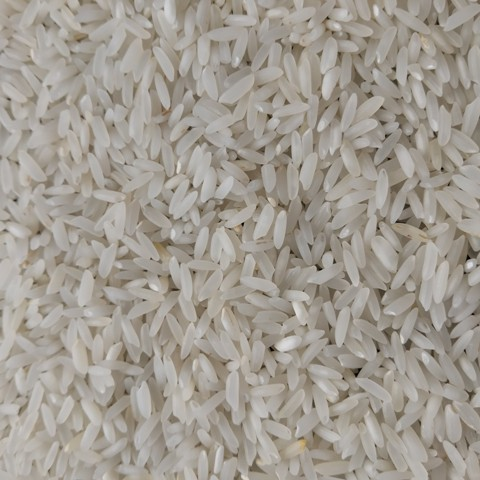gh hmt kalam_4: (122, 45, 441, 436)
